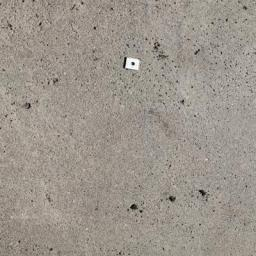FOD: (121, 54, 143, 74)
